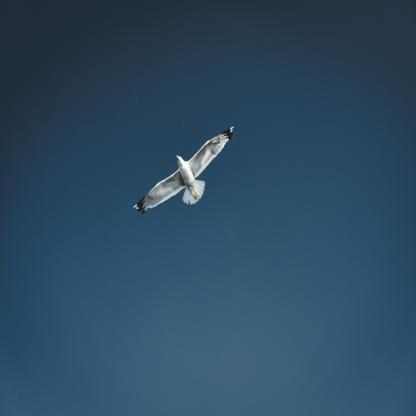bird: (133, 126, 234, 218)
